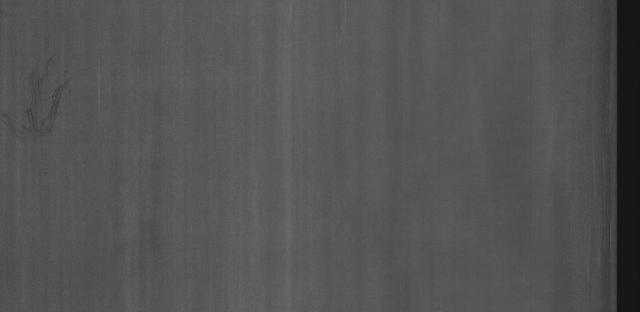water_spot: (17, 57, 77, 141)
